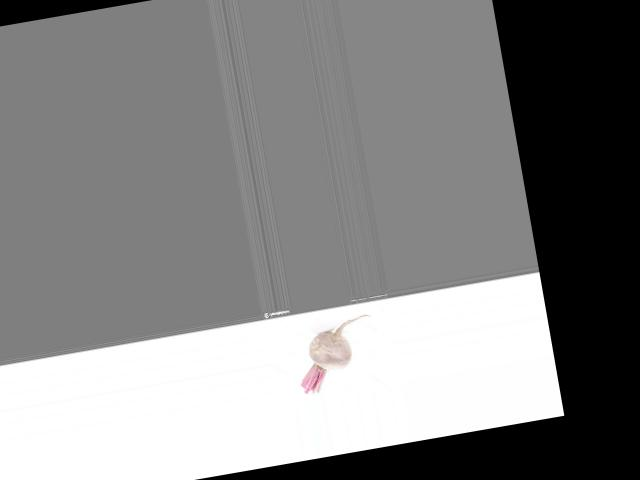beet: (291, 313, 382, 394)
